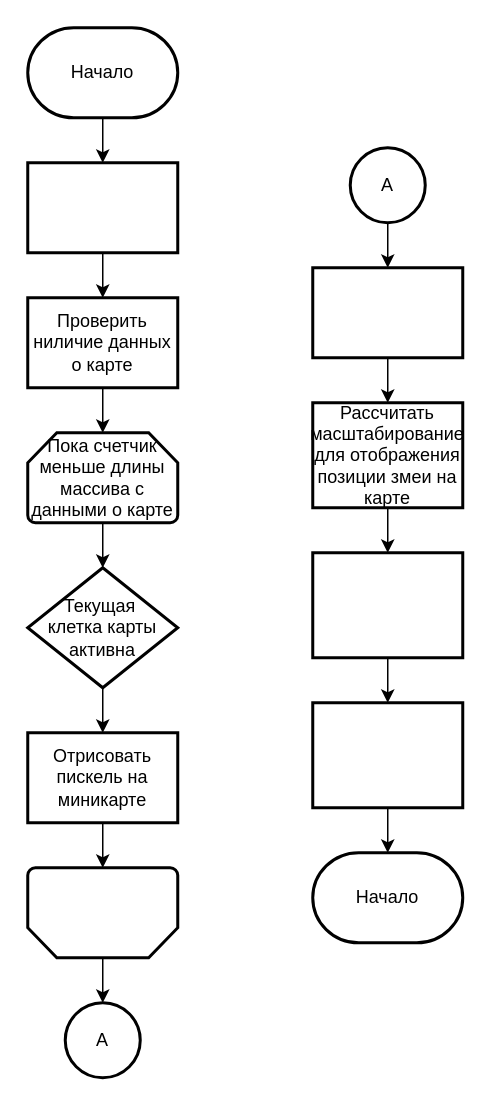
The diagram is 489 pixels wide and 1104 high, and some of its shapes have lost their labels. Here are the shapes that lost their labels. From the top down, the centre of each, then its label:
At (x=102, y=207): "Отрисовать границы мини-карты".
At (x=387, y=312): "Проверить ниличие данных о змее и зум не равен нулю".
At (x=387, y=604): "Вычислтиь координаты и размеры прямоугольника".
At (x=387, y=754): "Отобразить прямоугольник, представляющего положение змеи на карте".
At (x=102, y=912): "Увеличить счетчик на 1".
